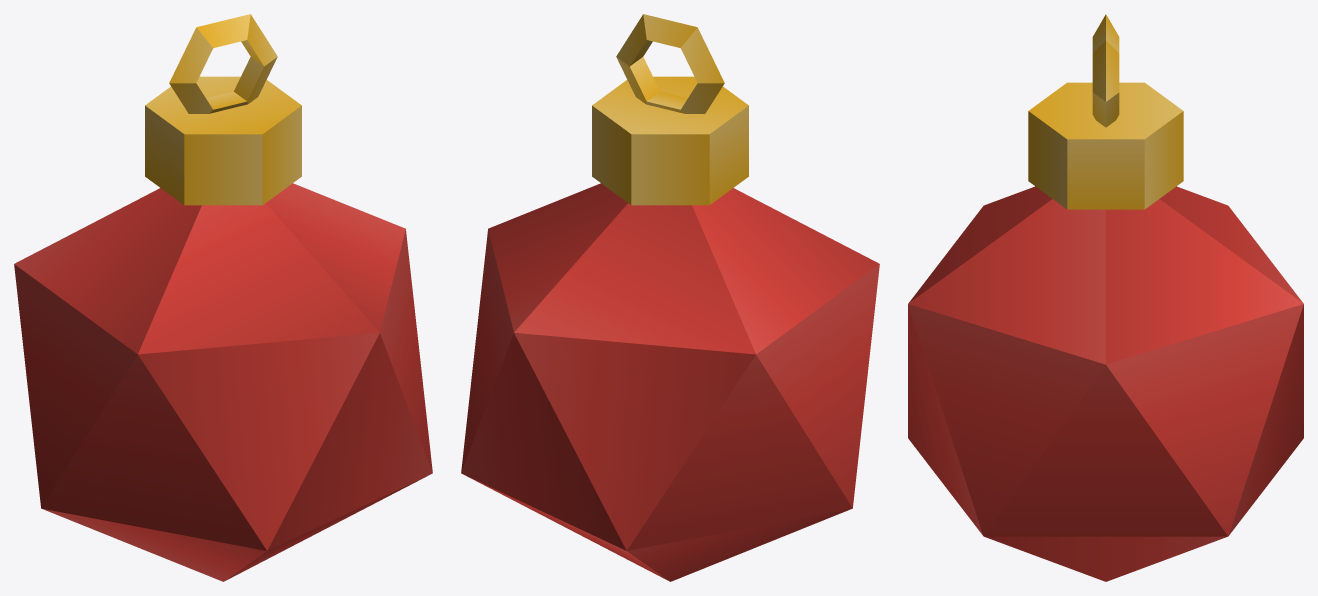
Rendered from dt_bauble.fbx.
The picture shows the model from 3 angles, left to right: view 1: azimuth 30°, elevation 25°; view 2: azimuth 150°, elevation 25°; view 3: azimuth 270°, elevation 25°; orthographic projection.
Parts seen in each view (by area): view 1: dt_bauble; view 2: dt_bauble; view 3: dt_bauble.
Boxes of the visible parts, box(x1,y1,x2,y2) form: dt_bauble: box(14, 14, 432, 581); dt_bauble: box(461, 14, 879, 581); dt_bauble: box(908, 14, 1303, 581).
Size of the model in its own units: 40.8 by 60 by 38.8.
